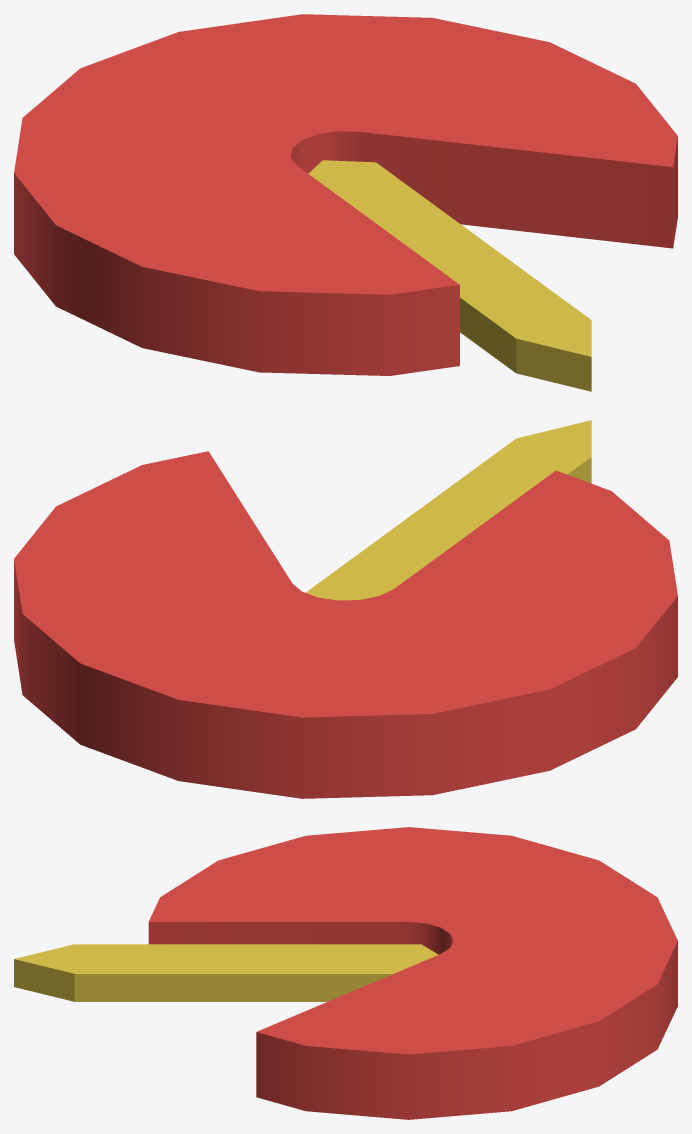
File: mesh_TrainTrackSwitch.fbx
3 renders of one model, top to bottom at view 1: azimuth 30°, elevation 25°; view 2: azimuth 150°, elevation 25°; view 3: azimuth 270°, elevation 25°, orthographic. The views are drawn at different scales.
Parts seen in each view (by area): view 1: SwitchFrame, SwitchPointer; view 2: SwitchFrame, SwitchPointer; view 3: SwitchFrame, SwitchPointer.
Boxes of the visible parts, left/top/right/bottom form: SwitchFrame: left=14, top=14, right=677, bottom=375; SwitchPointer: left=308, top=160, right=591, bottom=391; SwitchFrame: left=14, top=451, right=677, bottom=798; SwitchPointer: left=305, top=420, right=591, bottom=600; SwitchFrame: left=148, top=827, right=677, bottom=1119; SwitchPointer: left=14, top=944, right=438, bottom=1001.
Bounding box in the file's own units: 389 × 52.06 × 480.
